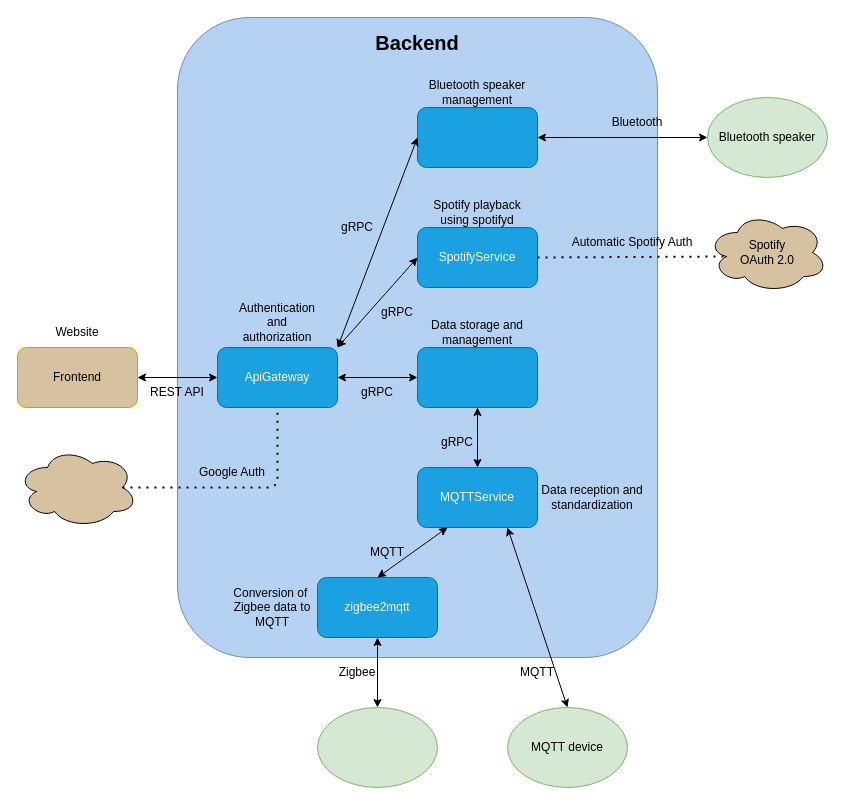
Image size: 845x805. Some labels were removed from this diagram. Here are the shapes that lost their labels. From the top down, the centre of each, then its label:
At (x=477, y=137): "SpeakerService".
At (x=477, y=377): "DatabaseService".
At (x=77, y=487): "Google OAuth 2.0".
At (x=377, y=747): "Zigbee device".
